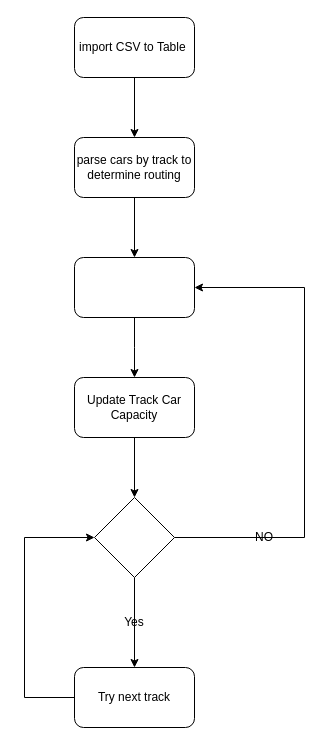
Some shapes in this 330 by 745 pixel diagram are drawn without their labels. The shapes that lost their labels are listed below. From the top down, each one's centre as x and y in pixels, then its label:
pixel 134 287: Hump Next Car
pixel 134 537: If Track Full
